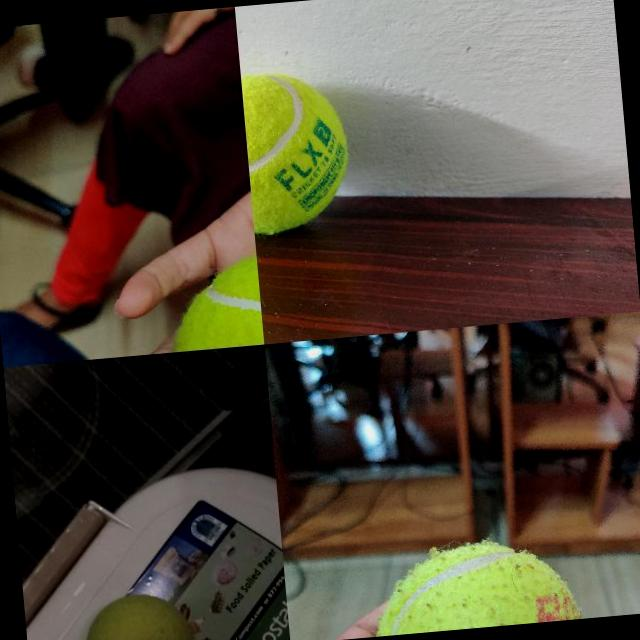Tennis Ball: (364, 534, 585, 636), (240, 66, 355, 236), (79, 587, 197, 640)
